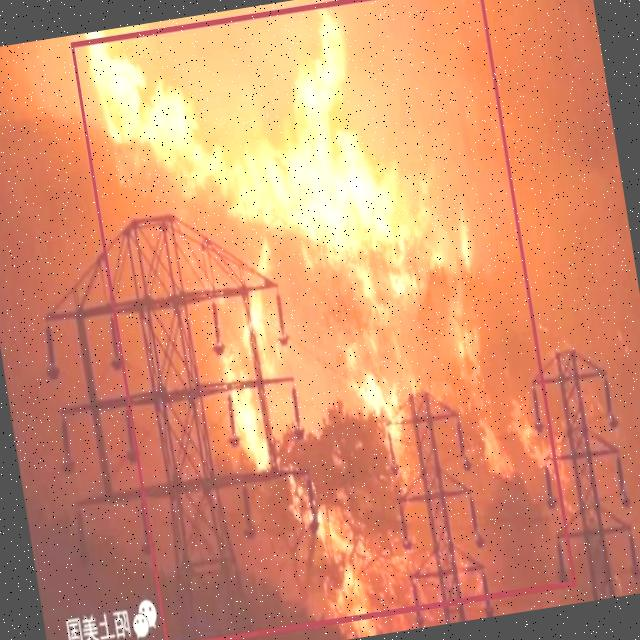fire: (71, 0, 576, 640)
